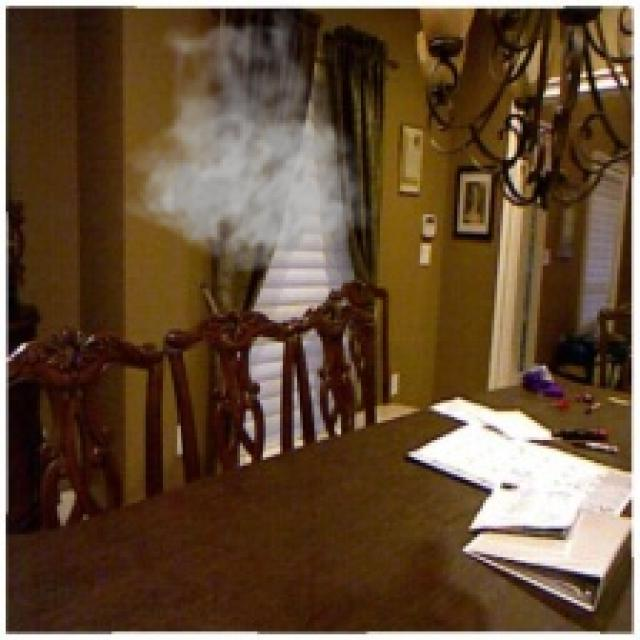smoke: (117, 3, 374, 274)
